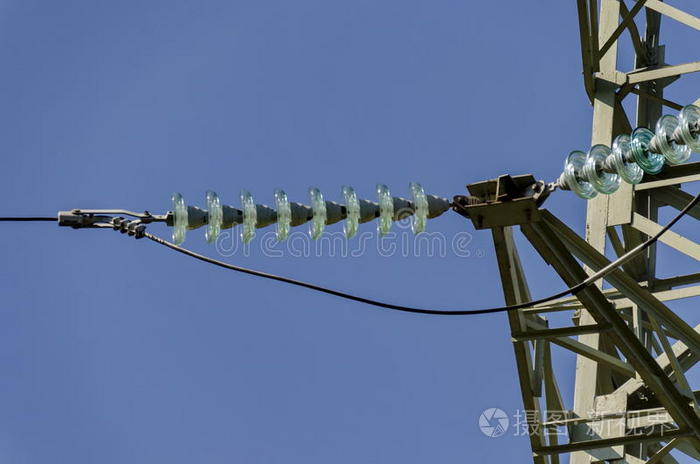insulator: (167, 177, 432, 246), (565, 105, 700, 197)
